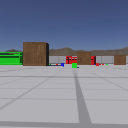blue_cube: (60, 62, 64, 66), (94, 63, 96, 65)
green_basket: (1, 51, 23, 65)
green_cube: (72, 63, 77, 68), (48, 62, 51, 65), (106, 63, 108, 65)
obstacle: (23, 41, 49, 66), (77, 51, 91, 65), (113, 54, 126, 64)
red_basket: (66, 54, 96, 65)
red_cube: (96, 63, 99, 66), (55, 63, 58, 66), (102, 63, 104, 65), (114, 64, 116, 65), (100, 64, 101, 65)
